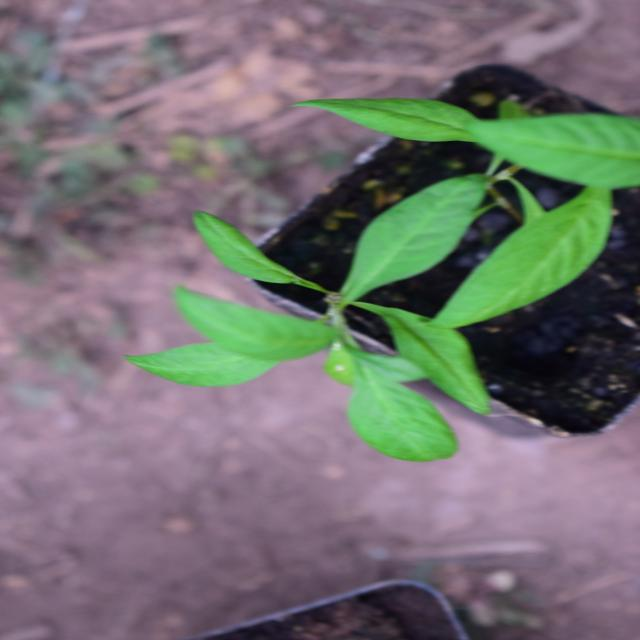white_smart_weed: (184, 137, 456, 544)
